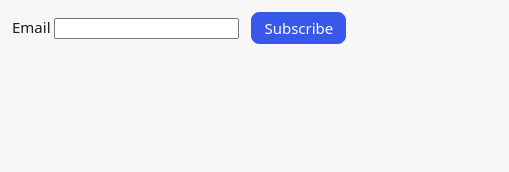
Scenario: useActionState + <form action> › returns validation and server errors as state
This screenshot has width=509, height=172.
Step 1. Type "nope" into the field labelled "Email" → (147, 29), box [54,18,239,39]
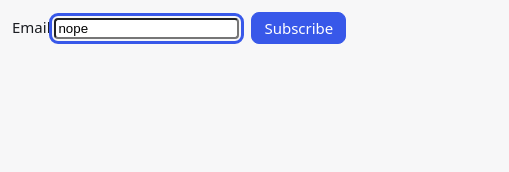
Step 2. Click the button "Subscribe" → (299, 28), box [251,12,346,44]
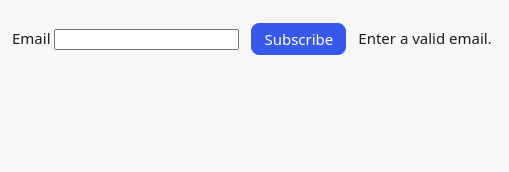
Expected: the message reads "Enter a valid email.", [358,28,492,48]
Step 3. Type "ada@example.com" into the field labelled "Email" → (147, 40), box [54,29,239,50]
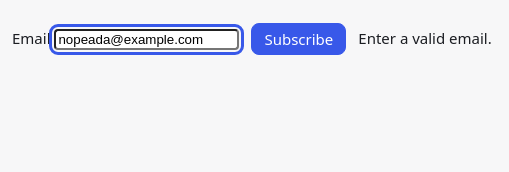
Step 4. Click the button "Subscribe" → (299, 39), box [251,23,346,55]
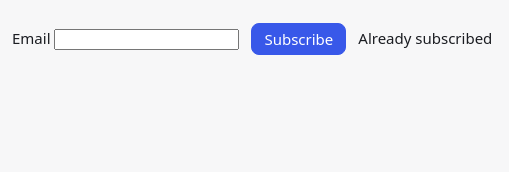
Expected: the text "Already subscribed" is shown, [358,27,492,50]
